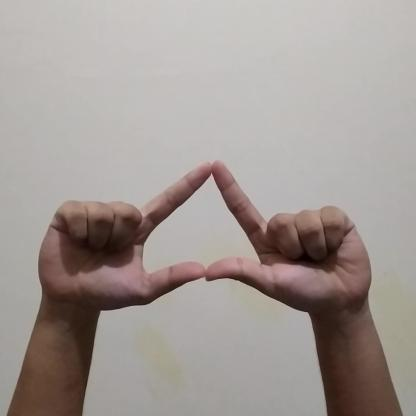A: (34, 158, 374, 310)
